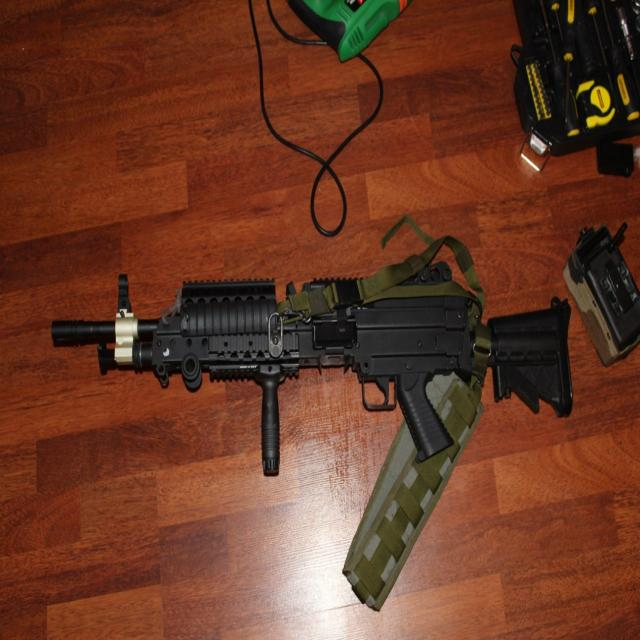firearm: (53, 272, 570, 475)
